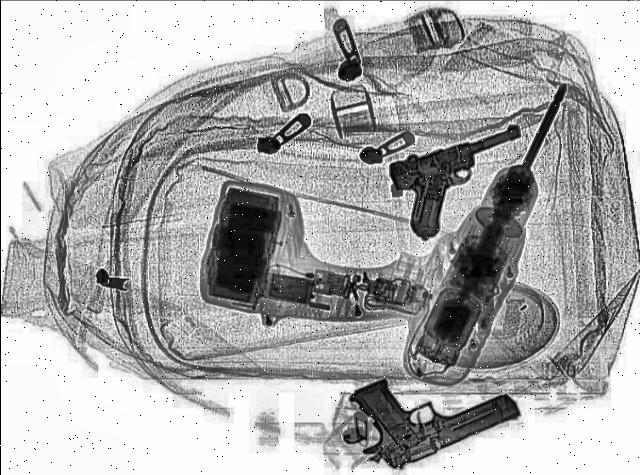Gun: (326, 344, 530, 472), (371, 122, 567, 241)
